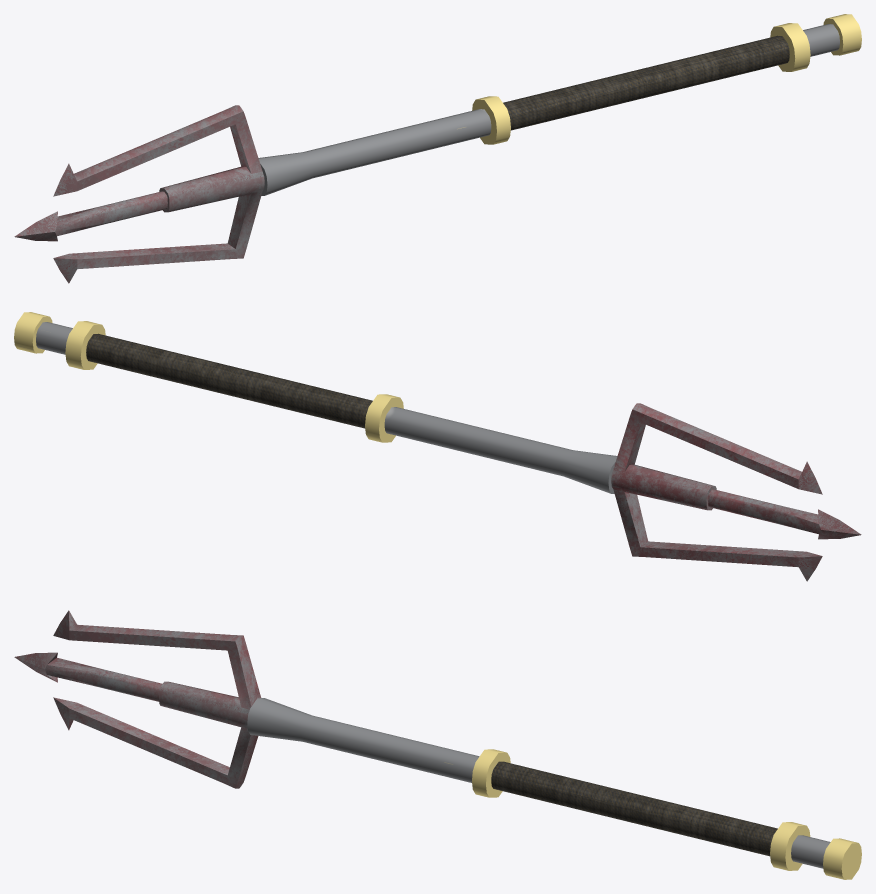
File: trident-2.glb
3 renders of one model, top to bottom at view 1: azimuth 30°, elevation 25°; view 2: azimuth 150°, elevation 25°; view 3: azimuth 330°, elevation 25°, orthographic.
Visible parts, largest first — view 1: handle; view 2: handle; view 3: handle.
Boxes of the visible parts, x1,y1,x2,y2 form: handle: [14, 14, 861, 283]; handle: [14, 312, 861, 581]; handle: [14, 610, 861, 879].
Bounding box in the file's own units: 4.72 × 0.8228 × 0.2463.
Materials: 2 (2 with a texture image).
